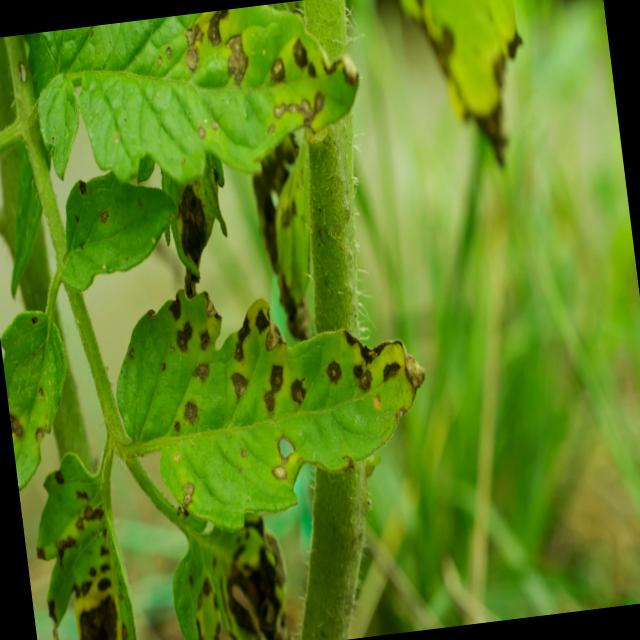leaf_spot: (117, 295, 423, 528), (35, 4, 357, 183)
